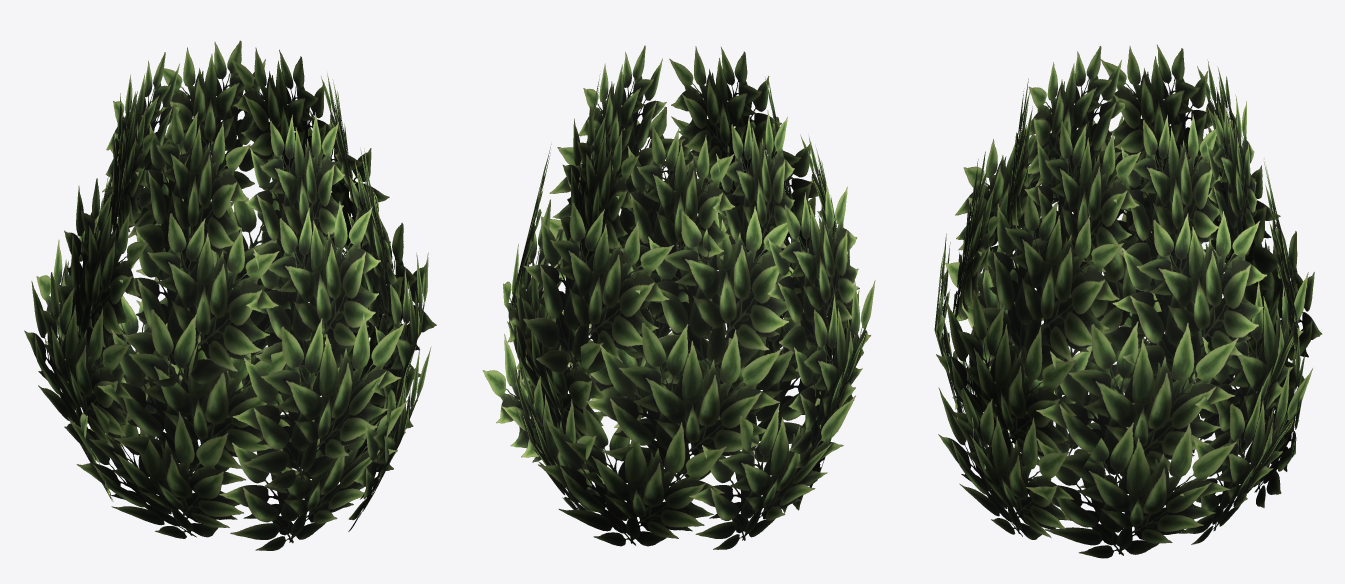
The model's file is leafy_shrub_eggy.DAE.
The picture shows the model from 3 angles, left to right: view 1: azimuth 30°, elevation 25°; view 2: azimuth 150°, elevation 25°; view 3: azimuth 270°, elevation 25°; orthographic projection.
Parts seen in each view (by area): view 1: Plane24-Pivot; view 2: Plane24-Pivot; view 3: Plane24-Pivot.
Part boxes in pixels (x1=…): Plane24-Pivot: x1=24, y1=40, x2=436, y2=550; Plane24-Pivot: x1=482, y1=45, x2=875, y2=549; Plane24-Pivot: x1=934, y1=45, x2=1322, y2=558.
Size of the model in its own units: 5.79 by 7.18 by 5.7.
